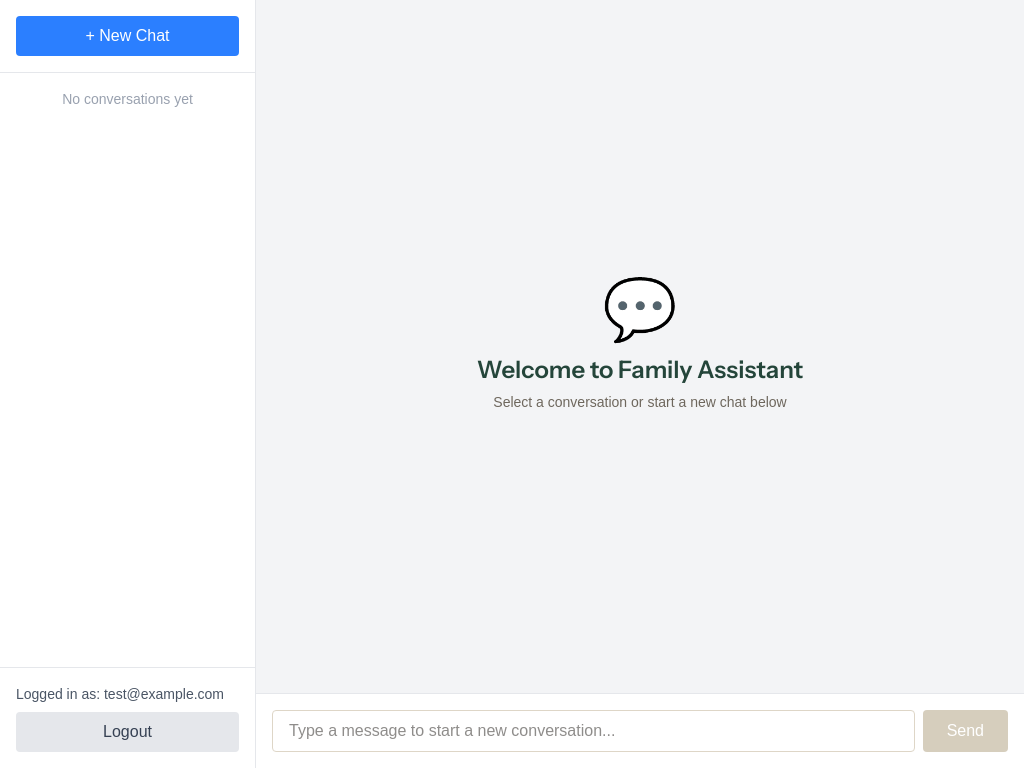
ConversationsChat › New chat flow › streams the first assistant response and renders thought traces
Type "Hello" into the field with placeholder "Type a message to start a new conversation...".
click(593, 731); type("Hello")  # box [272,710,915,752]
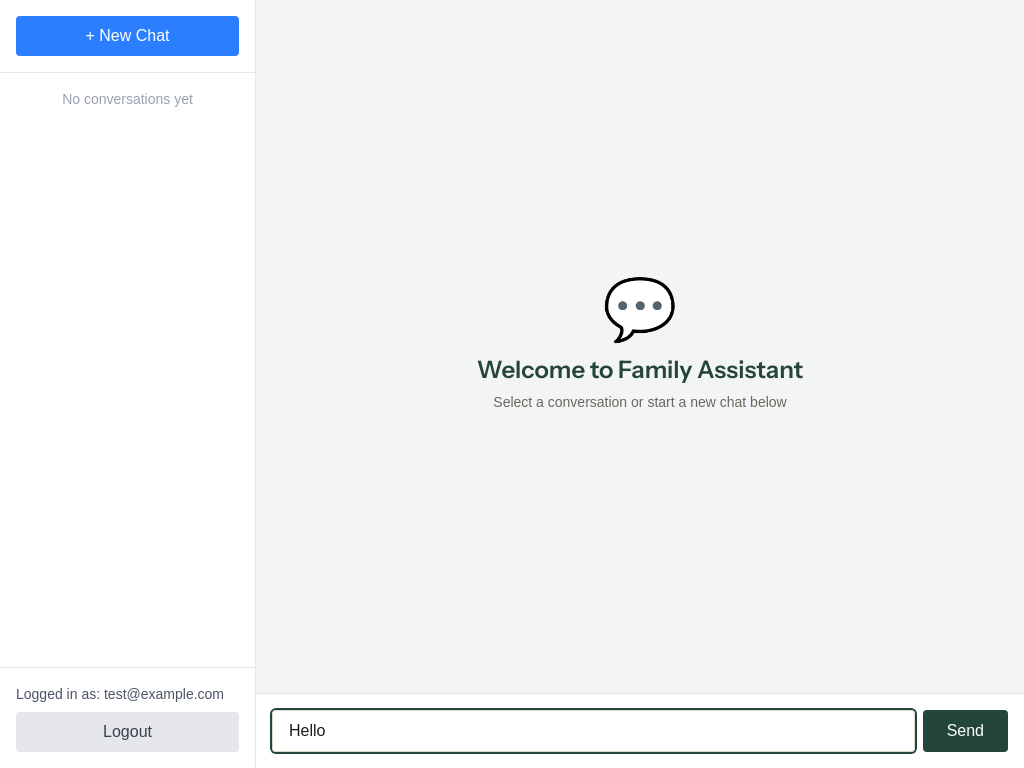
Click the button "Send".
click(965, 731)  # box [923,710,1008,752]
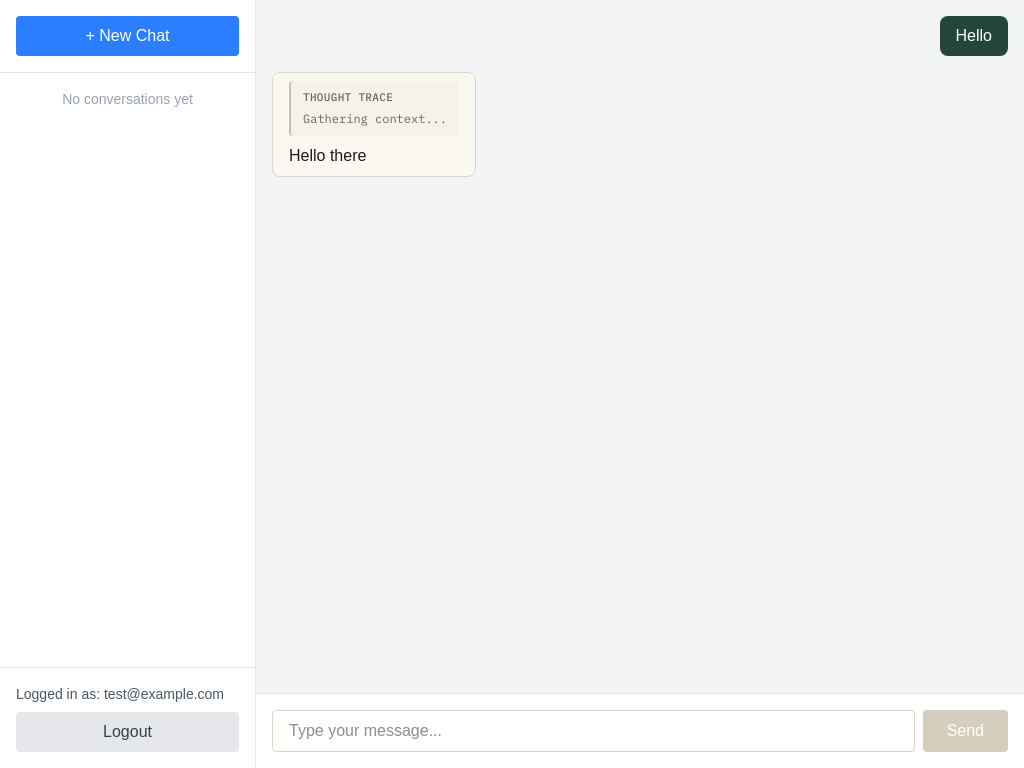
Now the text "Hello there" is shown, box [289,146,366,164]
Now the text "Gathering context..." is shown, box [303,110,447,128]
